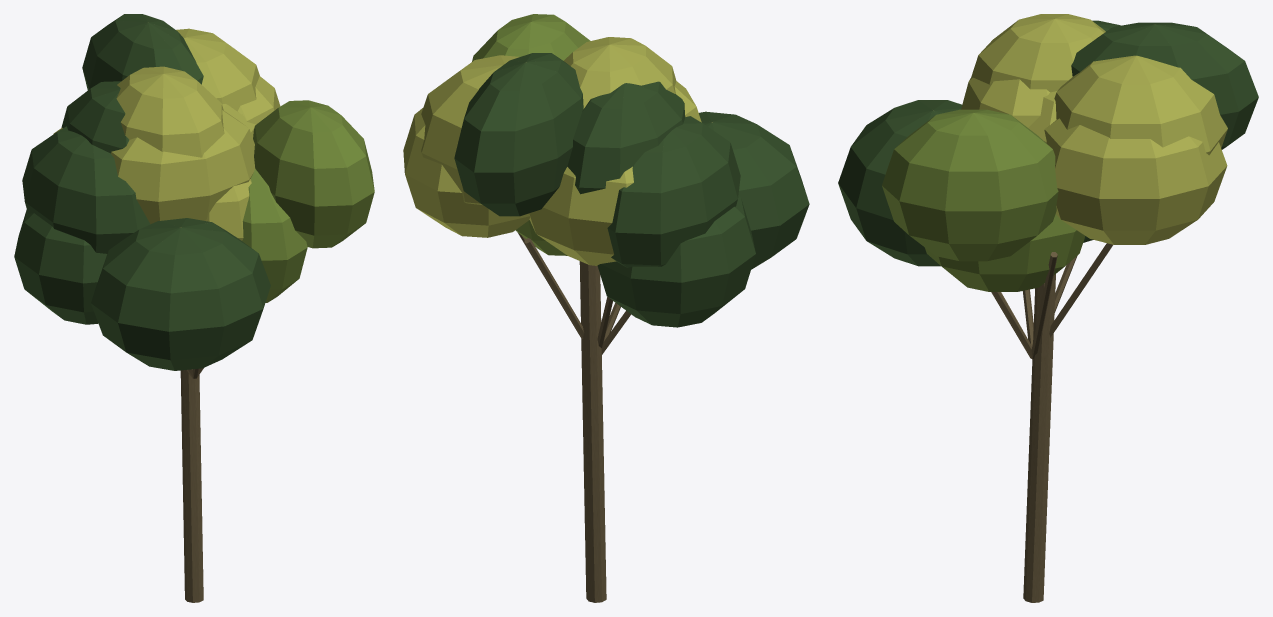
Rendered from Forest_BacklitTree_06.obj.
3 views of the same model, side by side, from view 1: azimuth 30°, elevation 25°; view 2: azimuth 150°, elevation 25°; view 3: azimuth 270°, elevation 25° (orthographic). The views are drawn at different scales.
Visible parts, largest first — view 1: Forest_BacklitTree_06; view 2: Forest_BacklitTree_06; view 3: Forest_BacklitTree_06.
Boxes of the visible parts, bbox=[...] form: Forest_BacklitTree_06: bbox=[14, 14, 374, 602]; Forest_BacklitTree_06: bbox=[403, 14, 809, 602]; Forest_BacklitTree_06: bbox=[838, 14, 1258, 602].
Bounding box in the file's own units: 5.87 × 10.38 × 6.83.
Materials: 1 (1 with a texture image).
